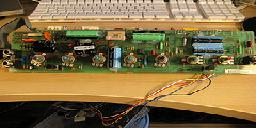Electrolytic Capacitor: (103, 44, 127, 73)
